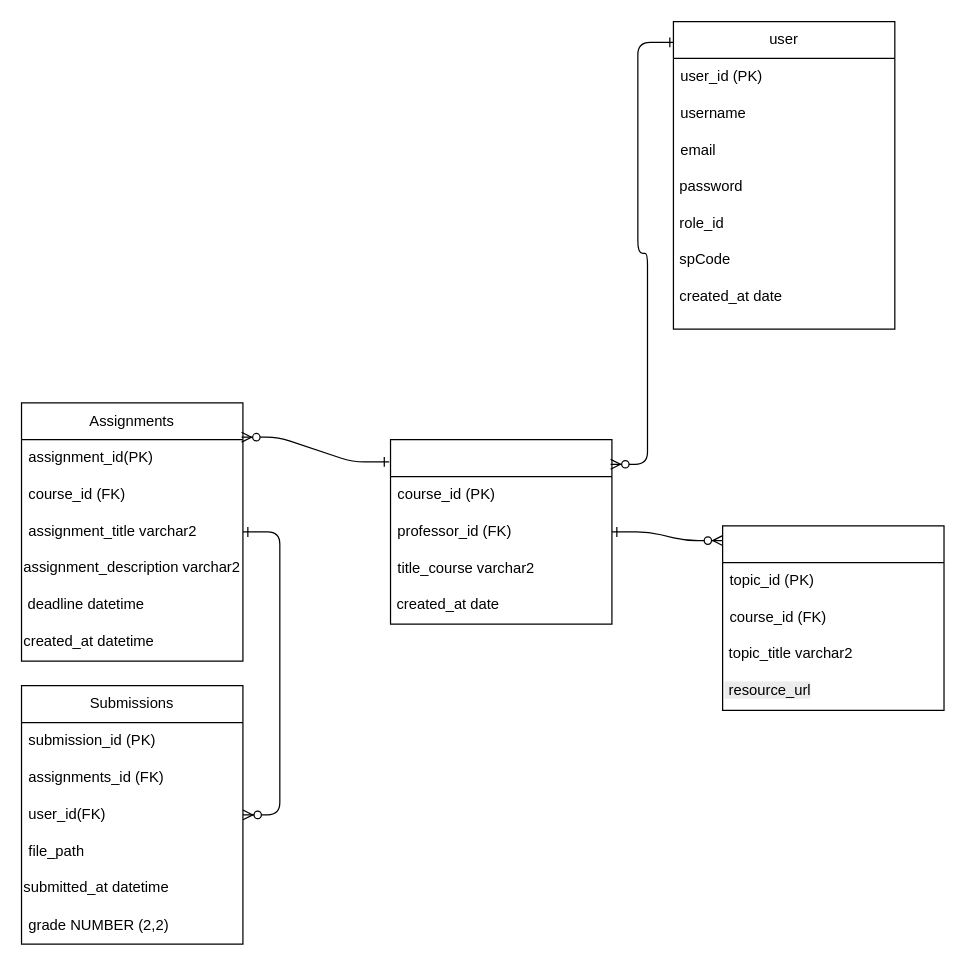
Image size: 966x966. Some labels were removed from this diagram. Each missing label, with the box of its shape:
Courses: (389, 438, 612, 624)
Topics: (721, 525, 944, 710)
